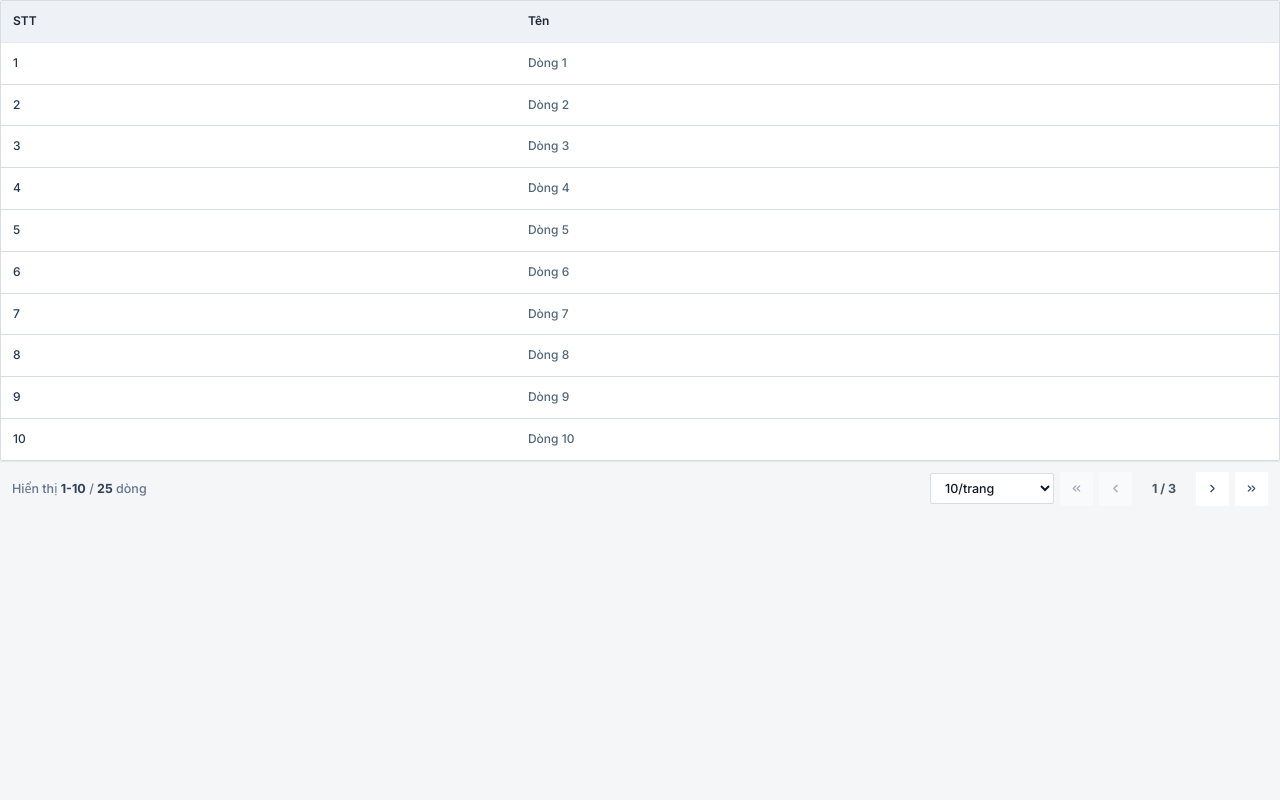
Test: DataTable › paginates with the size selector and navigation buttons
The width and height of the screenshot is (1280, 800).
Expected: the column heading "STT" is shown, [1,1,516,43]
Expected: the cell "1" is shown, [1,43,516,85]
Step 1. Click the 3rd button → (1212,489), box [1196,472,1229,506]
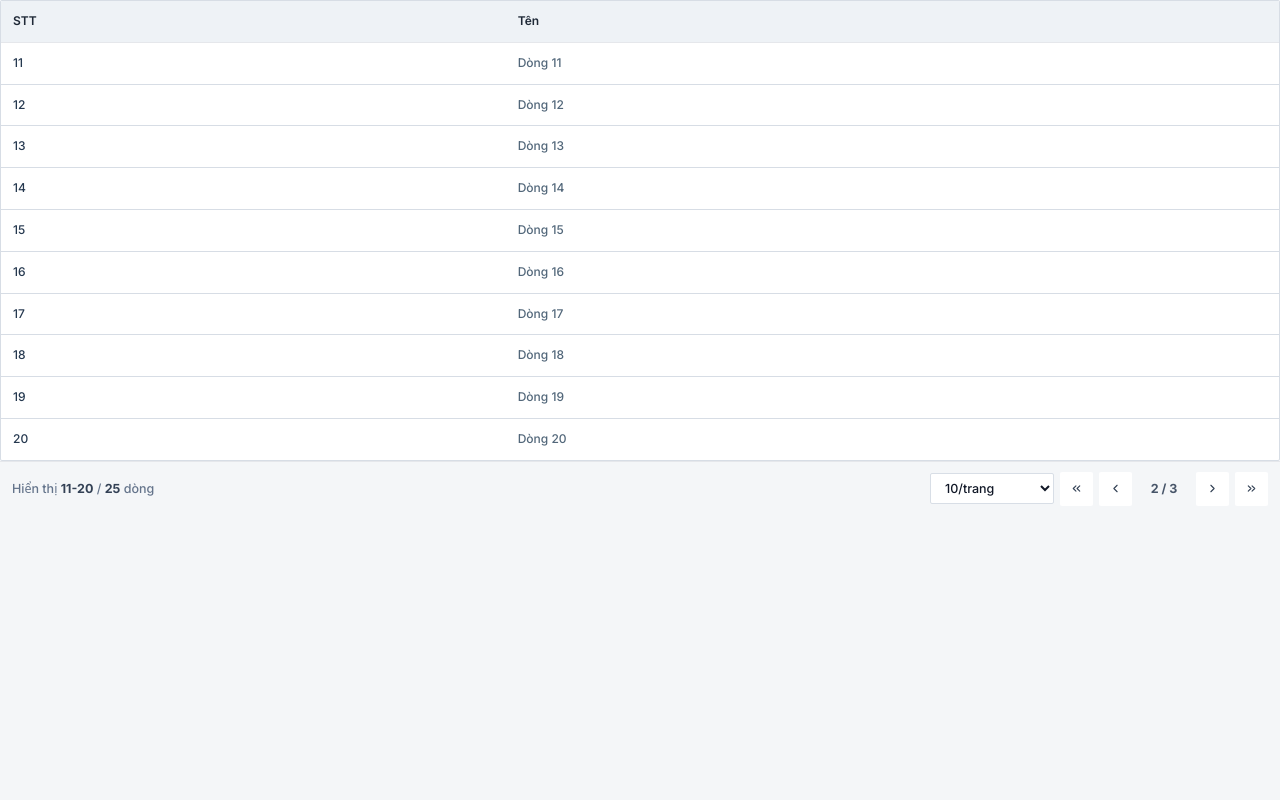
Result: the cell "11" is shown at [1,43,506,85]
Result: the text "Dòng 11" is shown at [506,43,1279,85]
Step 2. Click the 4th button → (1252,489), box [1235,472,1268,506]
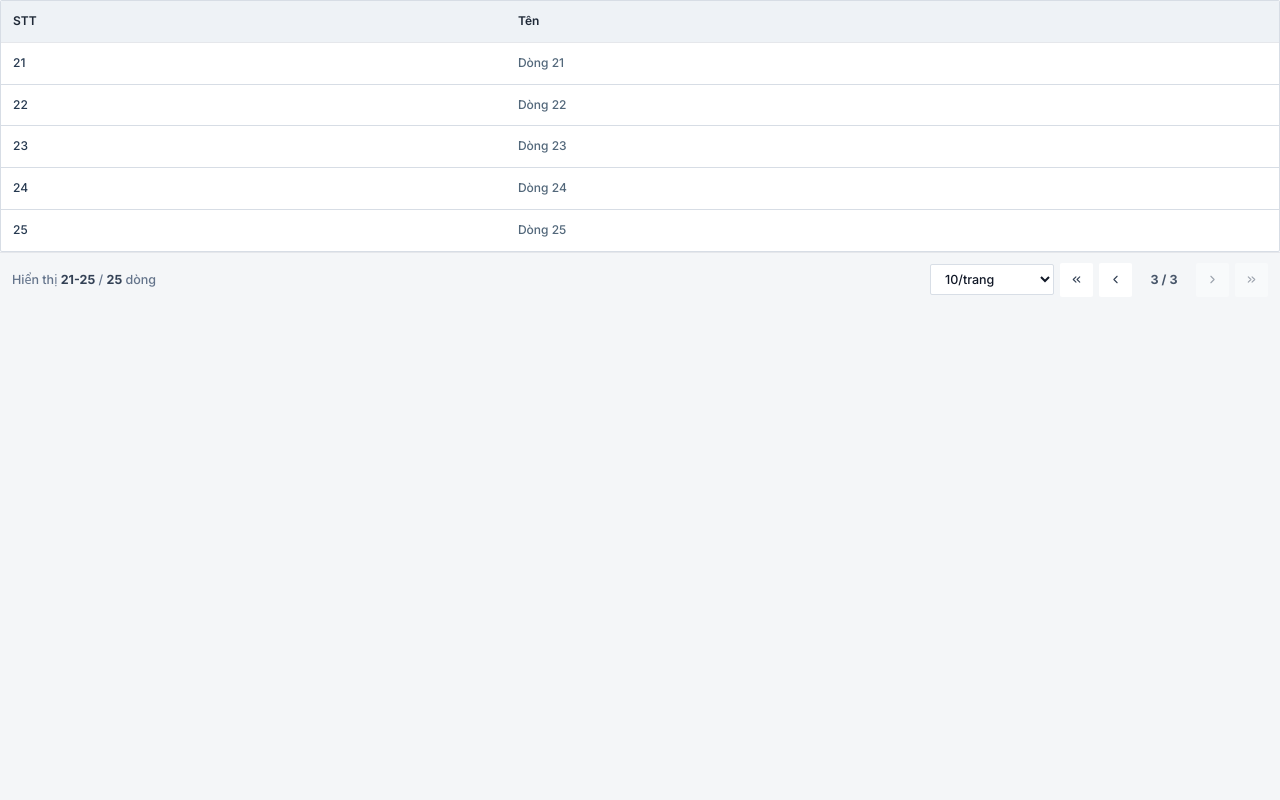
Result: the text "Dòng 25" is shown at [506,210,1279,251]
Step 3. Click the 2nd button → (1116,280), box [1099,263,1132,297]
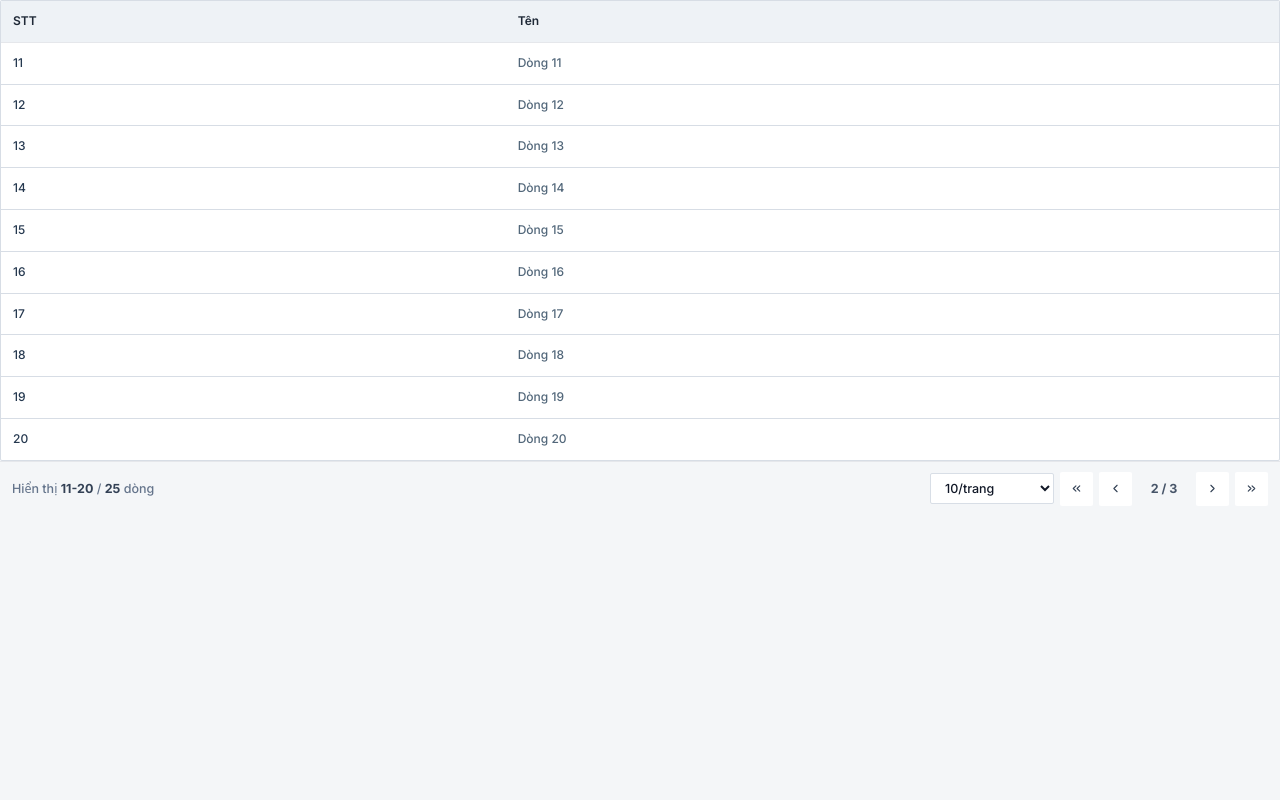
Result: the text "Dòng 11" is shown at [506,43,1279,85]
Step 4. Click the 1st button → (1076,489), box [1060,472,1093,506]
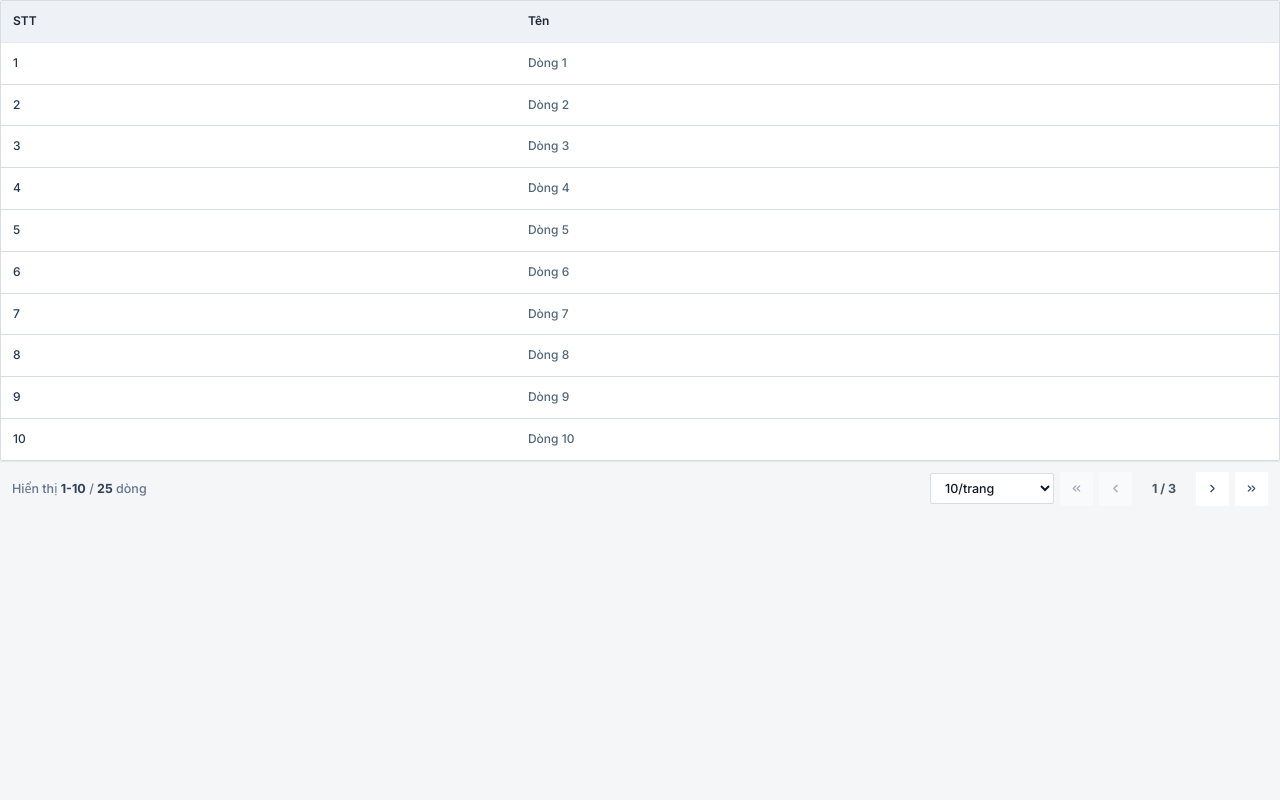
Result: the text "Dòng 1" is shown at [516,43,1279,85]
Step 5. Select "50/trang" in the dropdown named "Số dòng mỗi trang" → (992,489), box [930,473,1054,504]
(page scrolled)
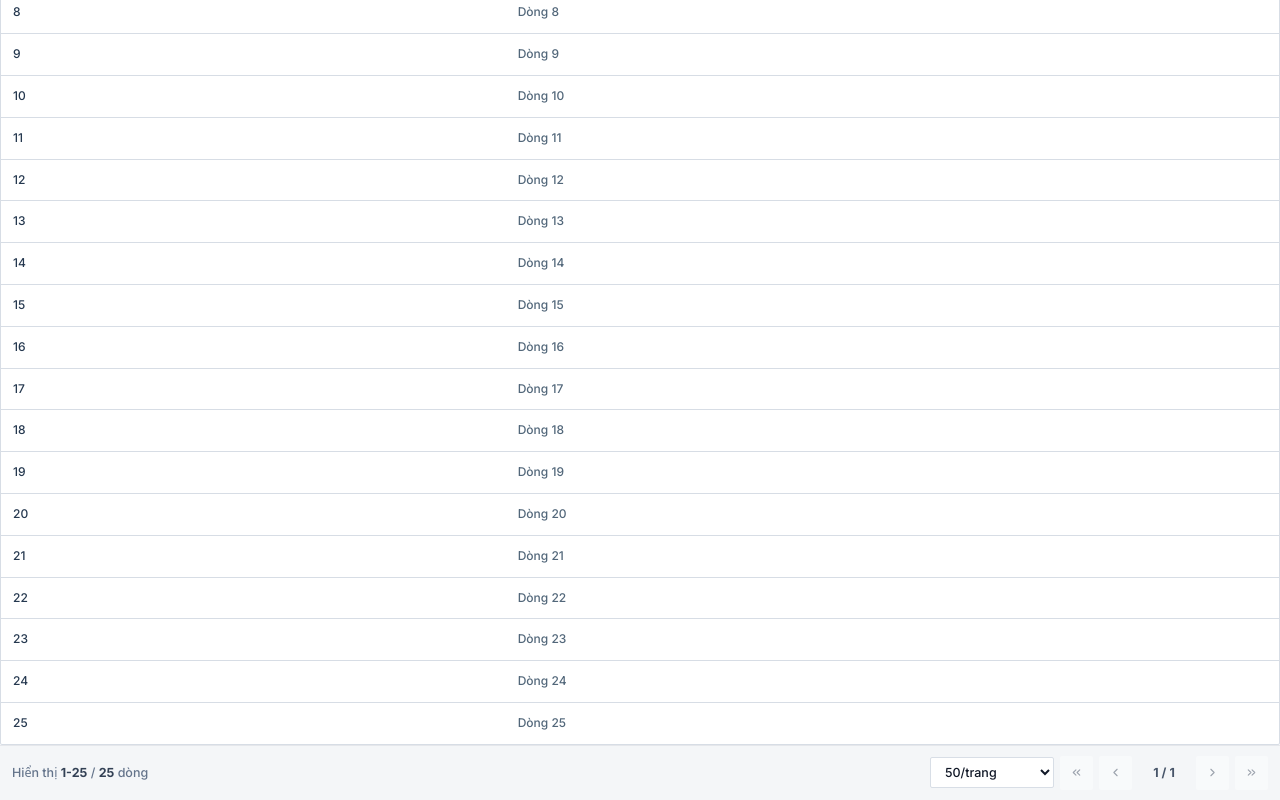
Result: the text "Dòng 25" is shown at [506,703,1279,744]
Result: the text "1 / 1" is shown at [1153,765,1175,780]
